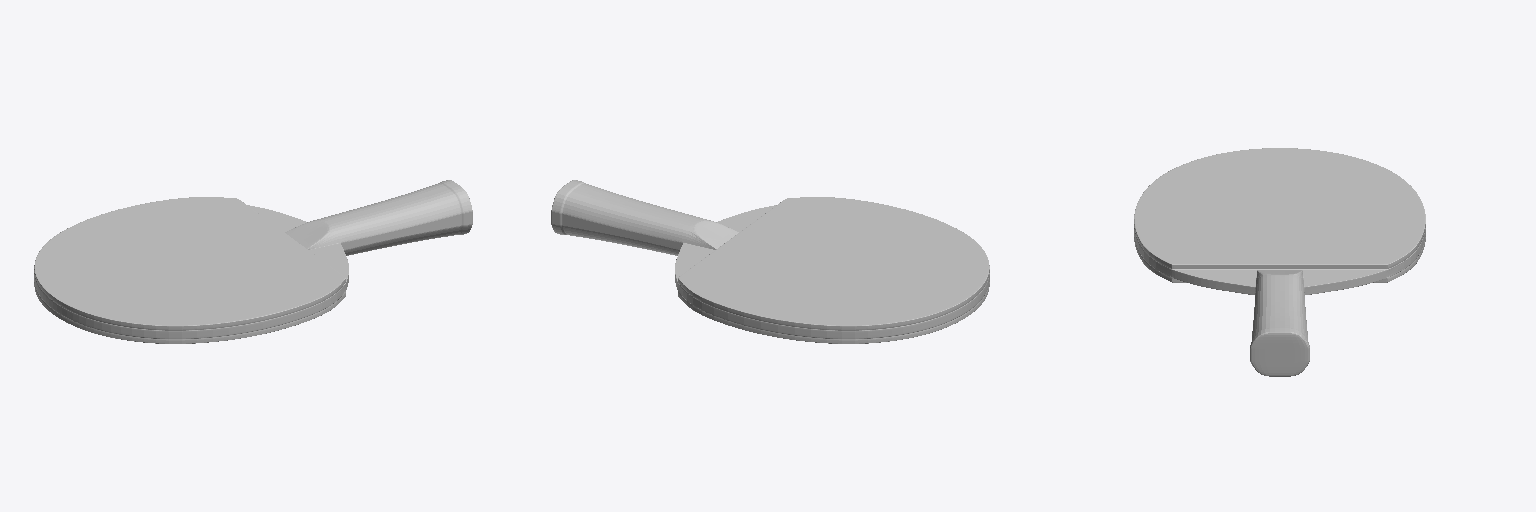
The model's file is TableTennisPaddle.obj.
The picture shows the model from 3 angles: view 1: azimuth 30°, elevation 25°; view 2: azimuth 150°, elevation 25°; view 3: azimuth 270°, elevation 25°; orthographic projection.
Visible parts, largest first — view 1: 15583_TableTennisPaddle_ShakehandStyle; view 2: 15583_TableTennisPaddle_ShakehandStyle; view 3: 15583_TableTennisPaddle_ShakehandStyle.
Boxes of the visible parts, <box> form: 15583_TableTennisPaddle_ShakehandStyle: <box>34,180,472,343</box>; 15583_TableTennisPaddle_ShakehandStyle: <box>551,180,989,343</box>; 15583_TableTennisPaddle_ShakehandStyle: <box>1134,148,1425,376</box>.
Size of the model in its own units: 0.2555 by 0.0272 by 0.1591.